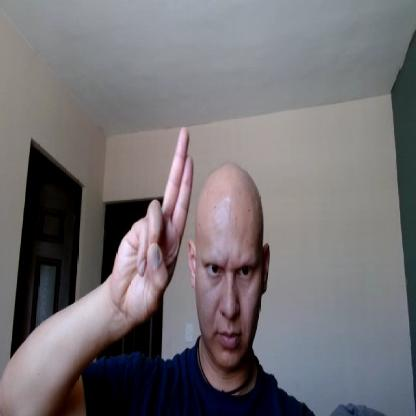U: (112, 124, 196, 321)
